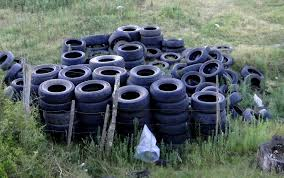tire: (111, 84, 153, 111), (188, 89, 224, 115), (148, 78, 187, 100), (36, 80, 76, 100), (54, 63, 92, 84), (152, 93, 189, 114), (72, 81, 112, 100), (90, 64, 128, 84), (73, 95, 113, 114), (154, 106, 189, 125), (28, 62, 63, 80), (126, 65, 163, 82), (114, 107, 153, 123), (154, 120, 193, 135), (86, 55, 124, 70), (74, 111, 114, 125), (180, 71, 206, 92), (191, 111, 228, 125), (36, 98, 72, 112), (116, 43, 145, 60), (9, 76, 43, 90), (184, 46, 209, 65), (240, 65, 267, 82), (198, 59, 222, 78), (61, 37, 91, 52), (108, 32, 132, 48), (60, 51, 90, 63), (159, 51, 183, 66), (114, 24, 139, 38), (244, 75, 265, 90), (162, 37, 186, 48), (139, 25, 161, 36), (1, 52, 16, 68)
